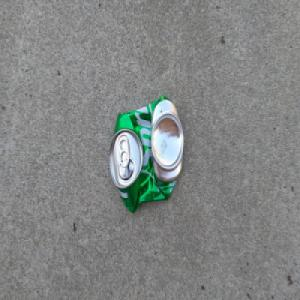SodaCan: (109, 92, 184, 215)
